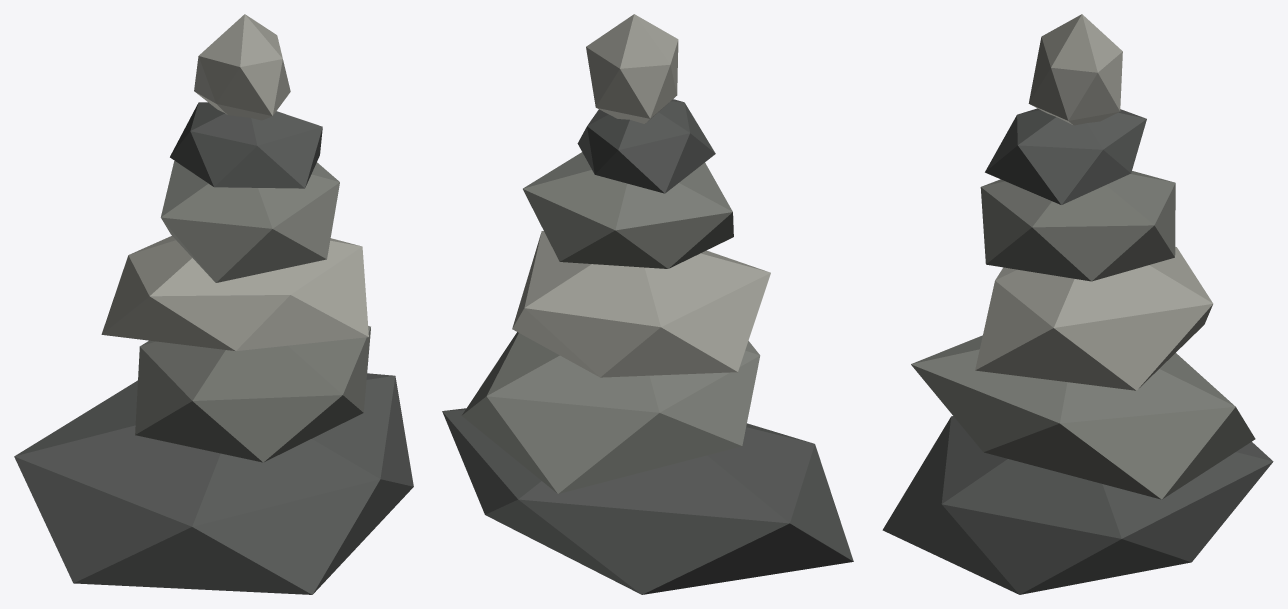
Rendered from cairn.glb.
3 views of the same model, side by side, from view 1: azimuth 30°, elevation 25°; view 2: azimuth 150°, elevation 25°; view 3: azimuth 270°, elevation 25° (orthographic). The views are drawn at different scales.
Parts seen in each view (by area): view 1: cairn; view 2: cairn; view 3: cairn.
Part boxes in pixels (x1,y1,x2,y2): cairn: (14,14,413,594); cairn: (442,14,853,594); cairn: (882,14,1273,594).
Size of the model in its own units: 0.5216 by 0.7311 by 0.4634.
Materials: 1 (1 with a texture image).
